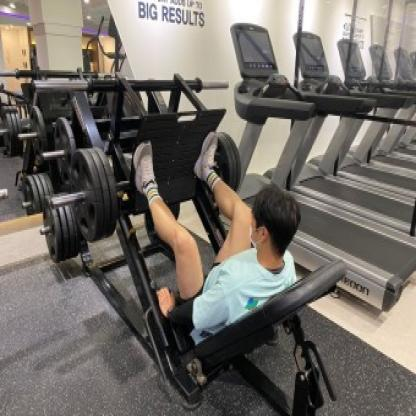leg press: (17, 61, 361, 416)
